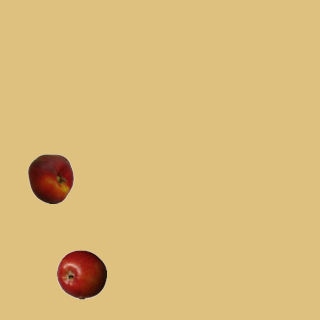Apple Braeburn: (56, 249, 106, 299)
Nectarine Flat: (25, 153, 75, 203)
